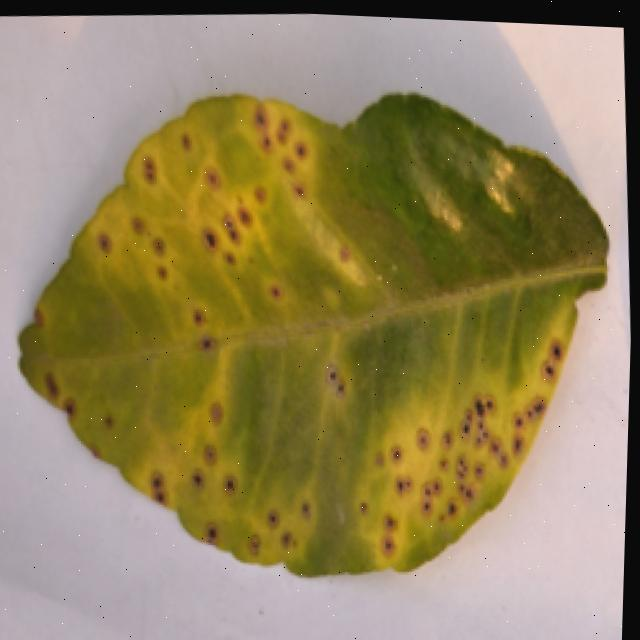canker: (19, 95, 604, 573), (91, 104, 337, 375), (353, 335, 562, 561), (116, 435, 307, 563), (19, 357, 116, 466)
